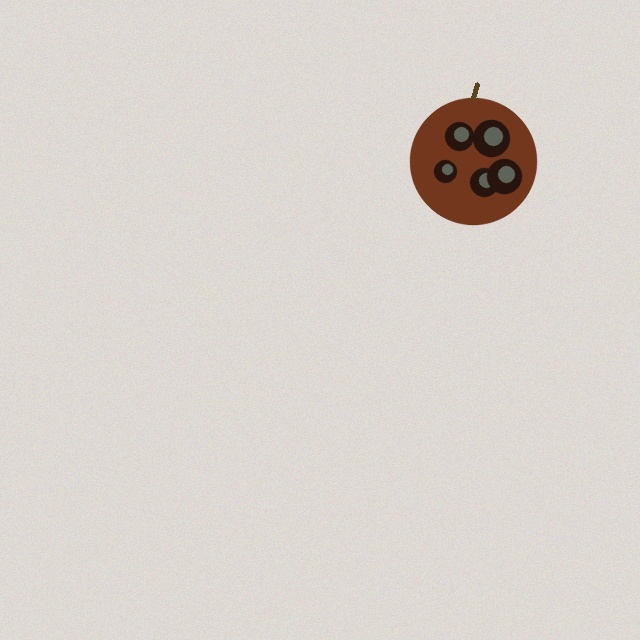Rotten apple: (410, 84, 536, 224)
